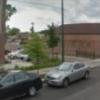buses: (47, 62, 92, 87)
cars: (47, 62, 92, 87)
